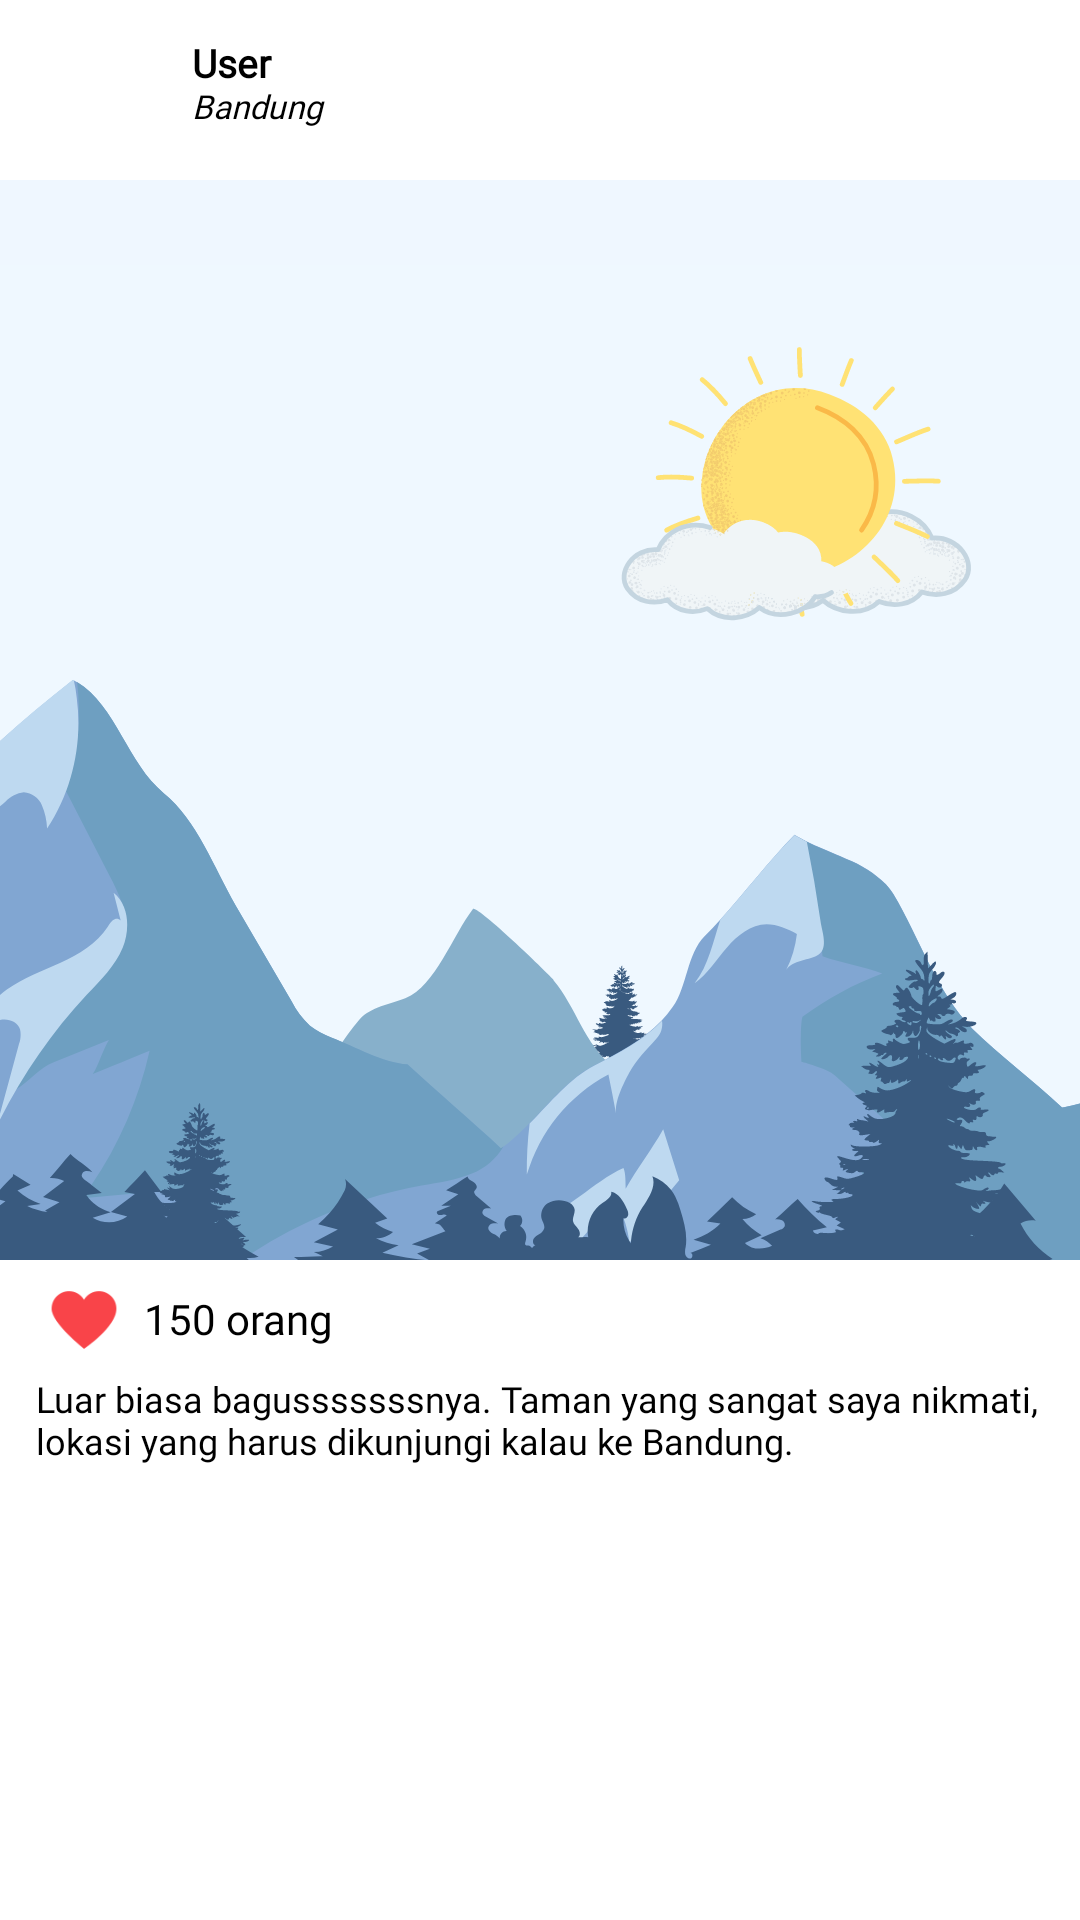

Where icons sit on this 1080px×1920px app screen, as (x1, y1, x2, y2):
fav: (51, 1291, 117, 1349)
